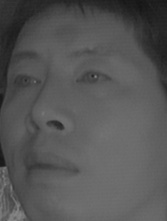eye: (74, 68, 110, 89), (10, 71, 43, 92)
mouth: (19, 149, 81, 185)
